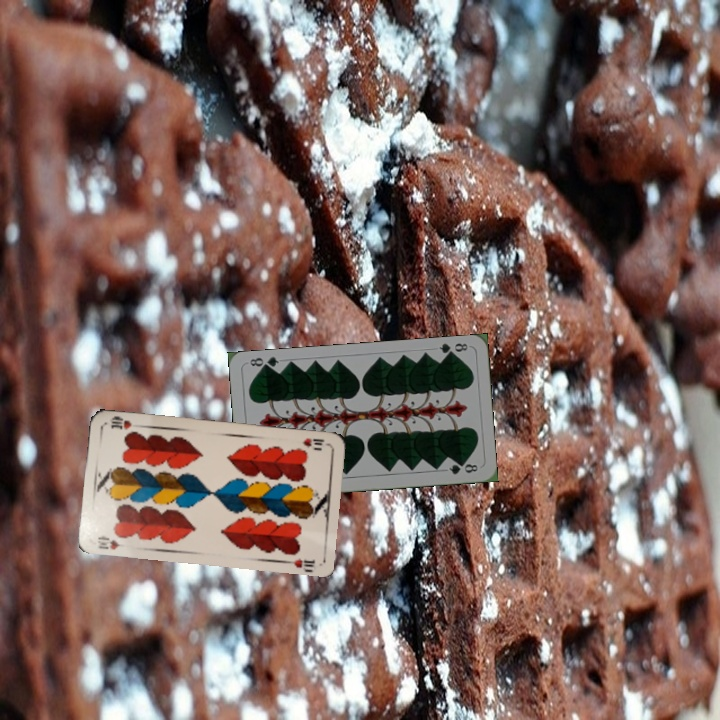G8: (435, 339, 470, 359)
H10: (94, 532, 127, 552), (299, 434, 331, 450)
